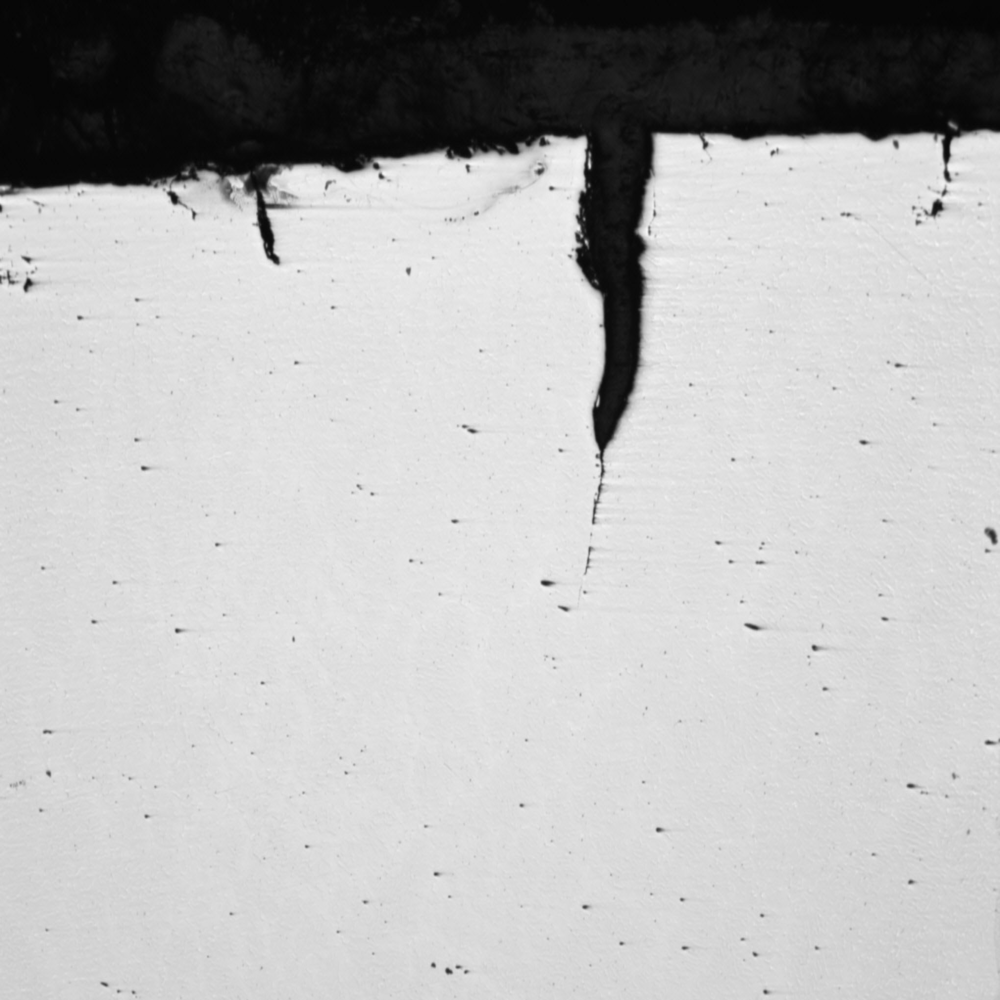crack: (541, 129, 672, 592), (906, 131, 966, 234), (244, 158, 297, 273)
